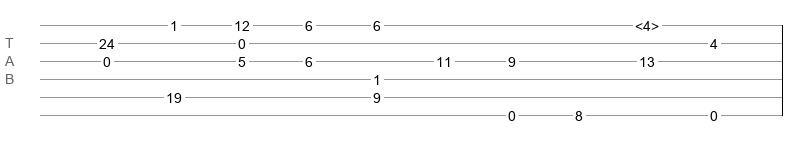0: (103, 54, 111, 64), (238, 36, 246, 46), (508, 108, 516, 118), (710, 108, 718, 118)
1: (170, 18, 178, 28), (373, 72, 381, 82)
11: (436, 54, 452, 64)
12: (234, 18, 250, 28)
13: (639, 54, 655, 64)
19: (166, 90, 182, 100)
24: (99, 36, 115, 46)
4: (710, 36, 718, 46)
5: (238, 54, 246, 64)
6: (305, 18, 313, 28), (305, 54, 313, 64), (373, 18, 381, 28)
8: (575, 108, 583, 118)
9: (373, 90, 381, 100), (508, 54, 516, 64)
harmonic: (635, 18, 659, 28)
